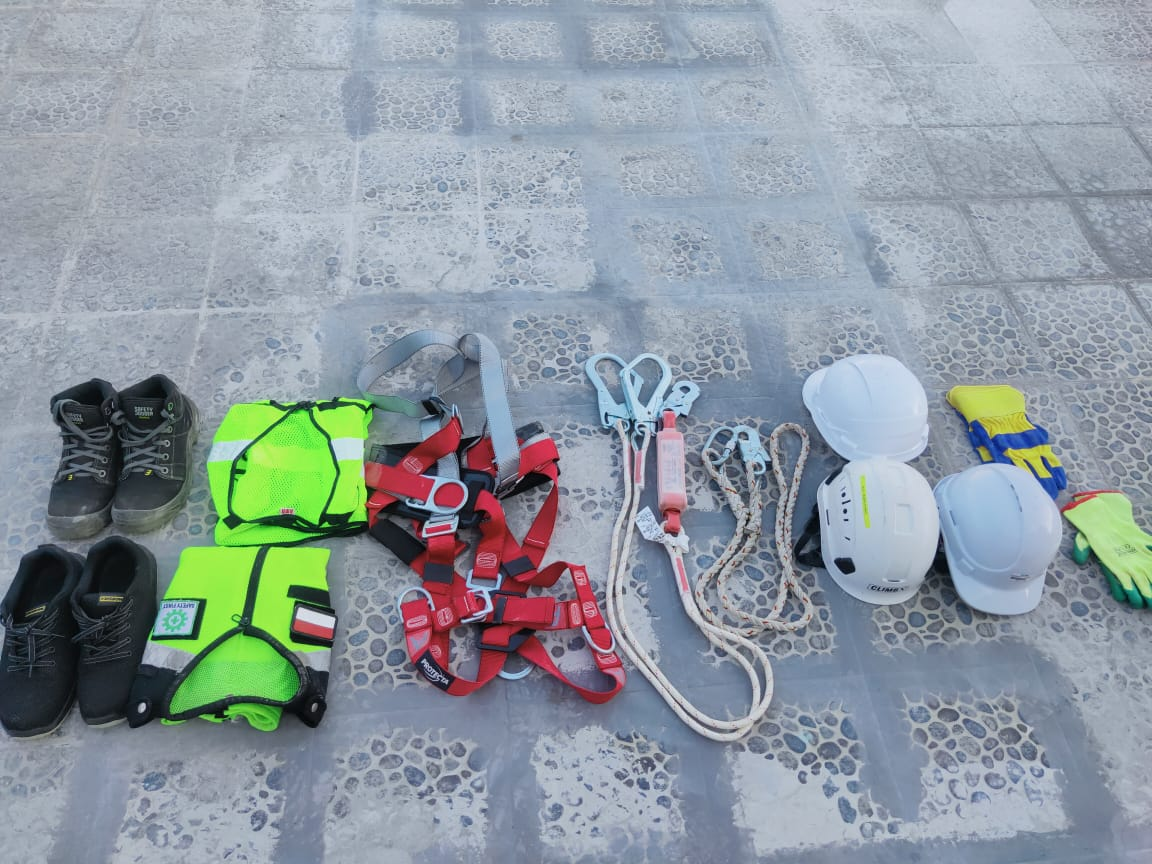HELM: (817, 464, 937, 603)
SEPATU: (53, 376, 190, 522)
TAMBANG_SLING: (387, 447, 555, 635)
